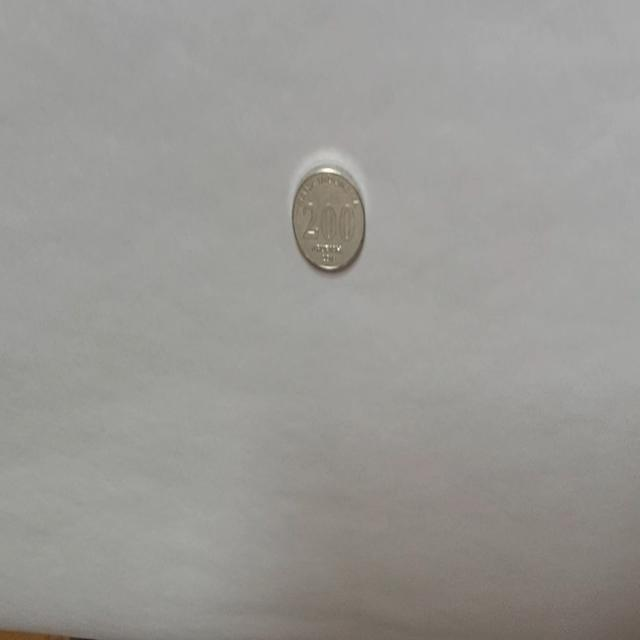dua ratus rupiah: (290, 164, 366, 272)
